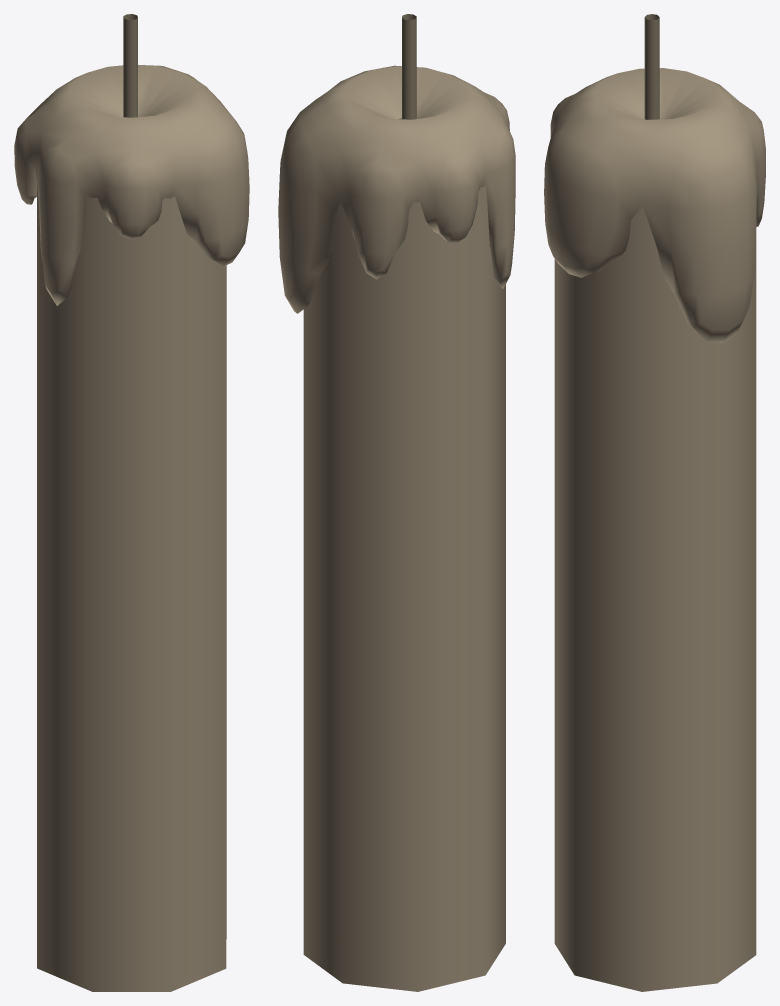
The model's file is VelaMedia.fbx.
3 views of the same model, side by side, from view 1: azimuth 30°, elevation 25°; view 2: azimuth 150°, elevation 25°; view 3: azimuth 270°, elevation 25° (orthographic).
Visible parts, largest first — view 1: Vela.M, Pavio.M; view 2: Vela.M, Pavio.M; view 3: Vela.M, Pavio.M.
Boxes of the visible parts, bbox=[...] form: Vela.M: bbox=[14, 65, 249, 991]; Pavio.M: bbox=[123, 14, 137, 117]; Vela.M: bbox=[278, 65, 515, 991]; Pavio.M: bbox=[402, 14, 416, 119]; Vela.M: bbox=[544, 68, 765, 991]; Pavio.M: bbox=[644, 14, 659, 119].
Bounding box in the file's own units: 6.39 × 28.98 × 6.26.
